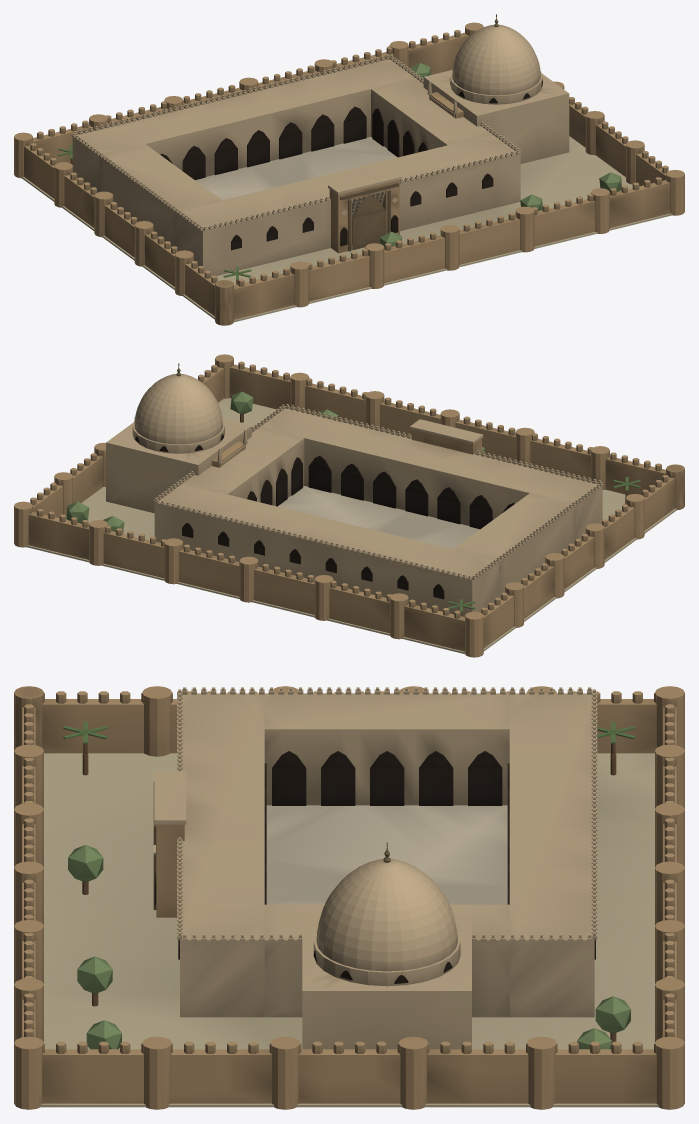
File: bayt-al-hikma.glb
The picture shows the model from 3 angles, top to bottom: view 1: azimuth 30°, elevation 25°; view 2: azimuth 150°, elevation 25°; view 3: azimuth 270°, elevation 25°; orthographic projection. The views are drawn at different scales.
Parts seen in each view (by area): view 1: p1_book rooms, p0_walls, p2_reading hall; view 2: p1_book rooms, p0_walls, p2_reading hall; view 3: p0_walls, p1_book rooms, p2_reading hall.
Boxes of the visible parts, x1=… form: p1_book rooms: x1=71, y1=55, x2=521, y2=276; p0_walls: x1=14, y1=22, x2=684, y2=325; p2_reading hall: x1=58, y1=14, x2=621, y2=284; p1_book rooms: x1=153, y1=404, x2=603, y2=616; p0_walls: x1=14, y1=354, x2=684, y2=657; p2_reading hall: x1=66, y1=363, x2=640, y2=616; p0_walls: x1=14, y1=686, x2=684, y2=1109; p1_book rooms: x1=153, y1=687, x2=597, y2=1017; p2_reading hall: x1=63, y1=721, x2=635, y2=1049.
Bounding box in the file's own units: 91.2 × 24.5 × 71.2.
